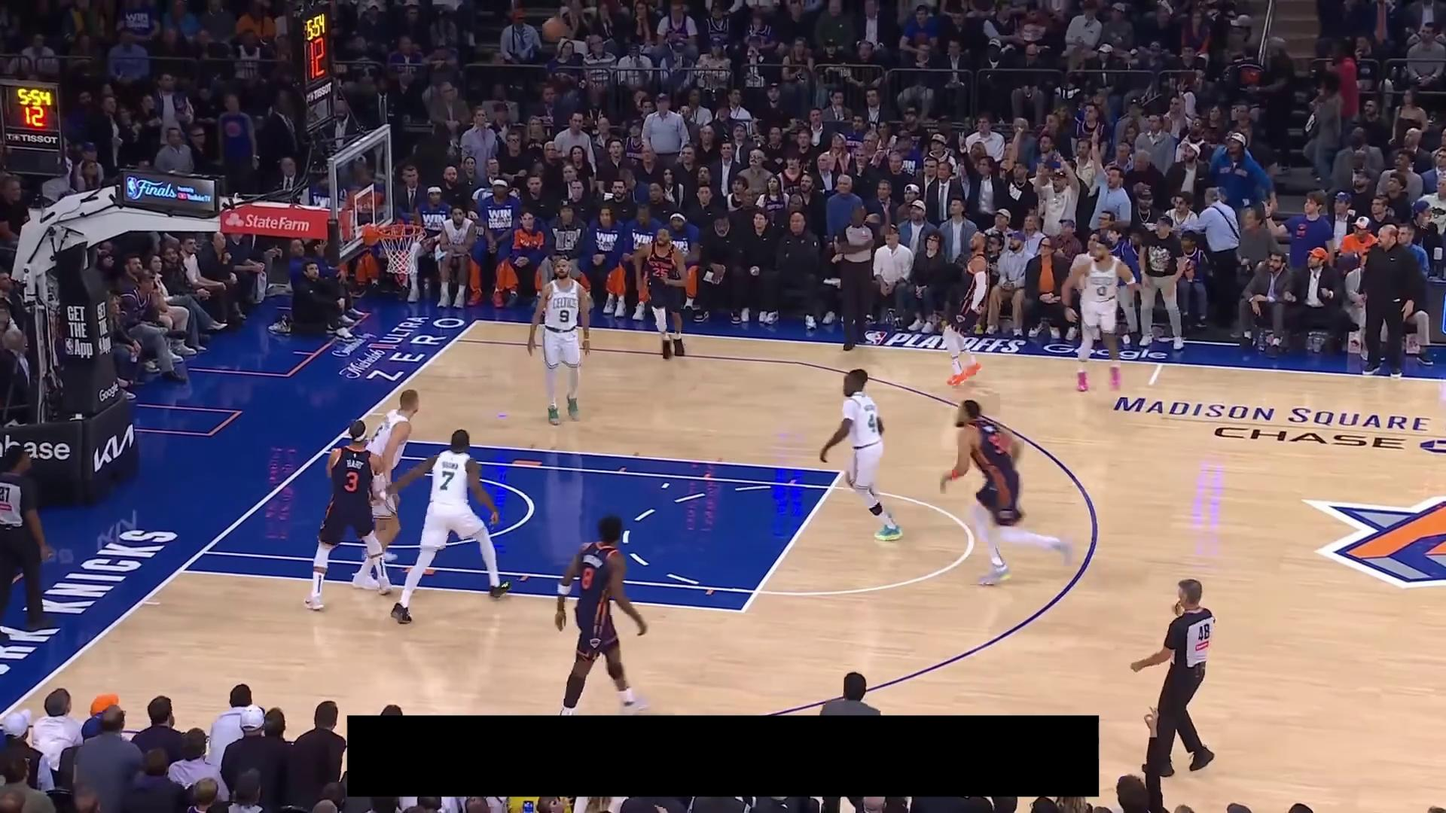ball: (542, 16, 567, 42)
number: (368, 422, 384, 446), (343, 470, 359, 492), (439, 470, 455, 491), (581, 567, 594, 589), (651, 266, 669, 280), (558, 308, 571, 324), (867, 413, 877, 433), (1095, 284, 1108, 297)
player: (937, 397, 1077, 588), (384, 428, 511, 625), (554, 513, 651, 715), (303, 417, 394, 612), (819, 367, 907, 544), (351, 389, 420, 591), (1060, 238, 1138, 392), (526, 257, 593, 425), (940, 230, 994, 387), (633, 226, 695, 361)
referee: (1130, 577, 1216, 778), (0, 446, 61, 644), (832, 204, 888, 352)
rim: (377, 223, 426, 239)
